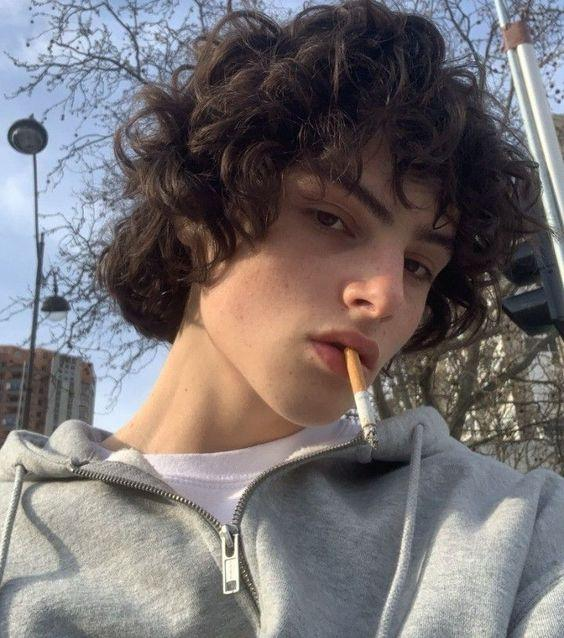cigarette: (343, 346, 379, 450)
